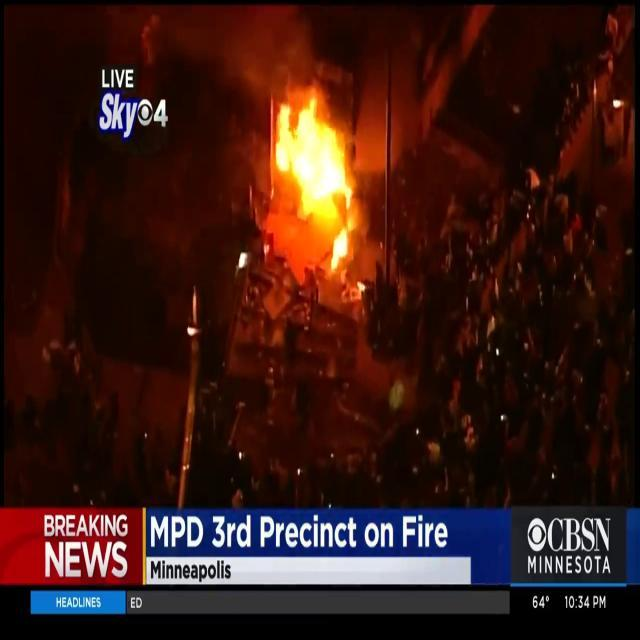Fire: (265, 84, 371, 274)
